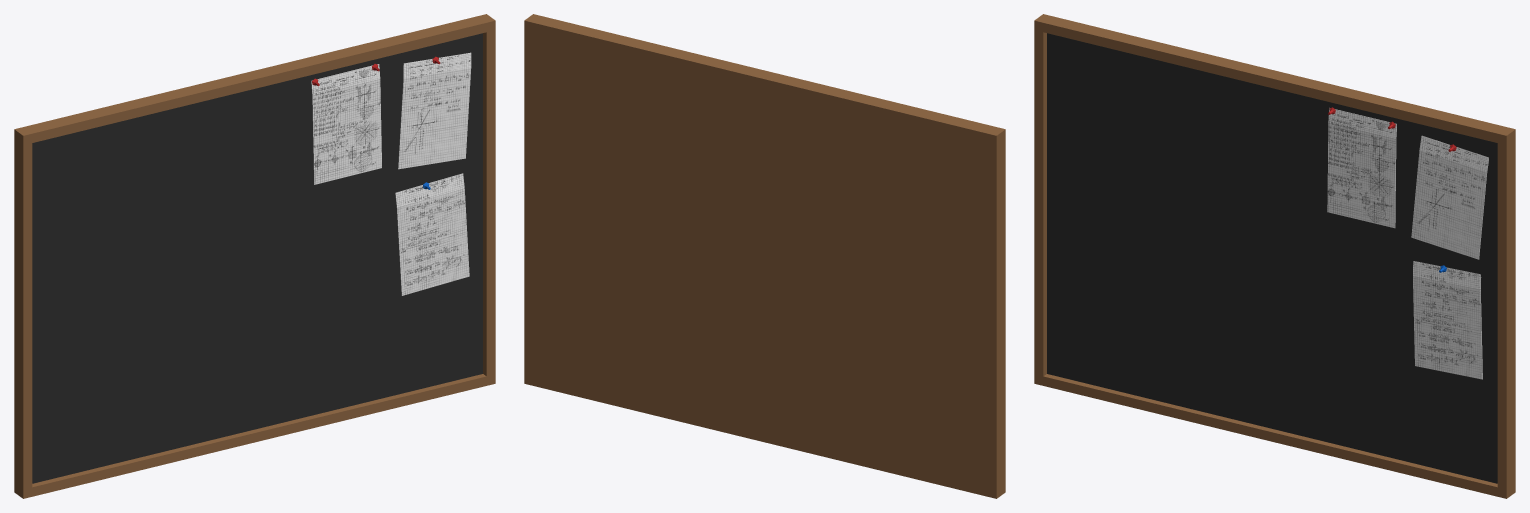
File: BoardV1_T.fbx
The picture shows the model from 3 angles, left to right: view 1: azimuth 30°, elevation 25°; view 2: azimuth 150°, elevation 25°; view 3: azimuth 330°, elevation 25°; orthographic projection.
Visible parts, largest first — view 1: BoardV1_T; view 2: BoardV1_T; view 3: BoardV1_T.
Part boxes in pixels (<box>): BoardV1_T: <box>14,14,495,498</box>; BoardV1_T: <box>524,14,1005,498</box>; BoardV1_T: <box>1034,14,1515,498</box>.
Size of the model in its own units: 118 by 86.44 by 4.03.
